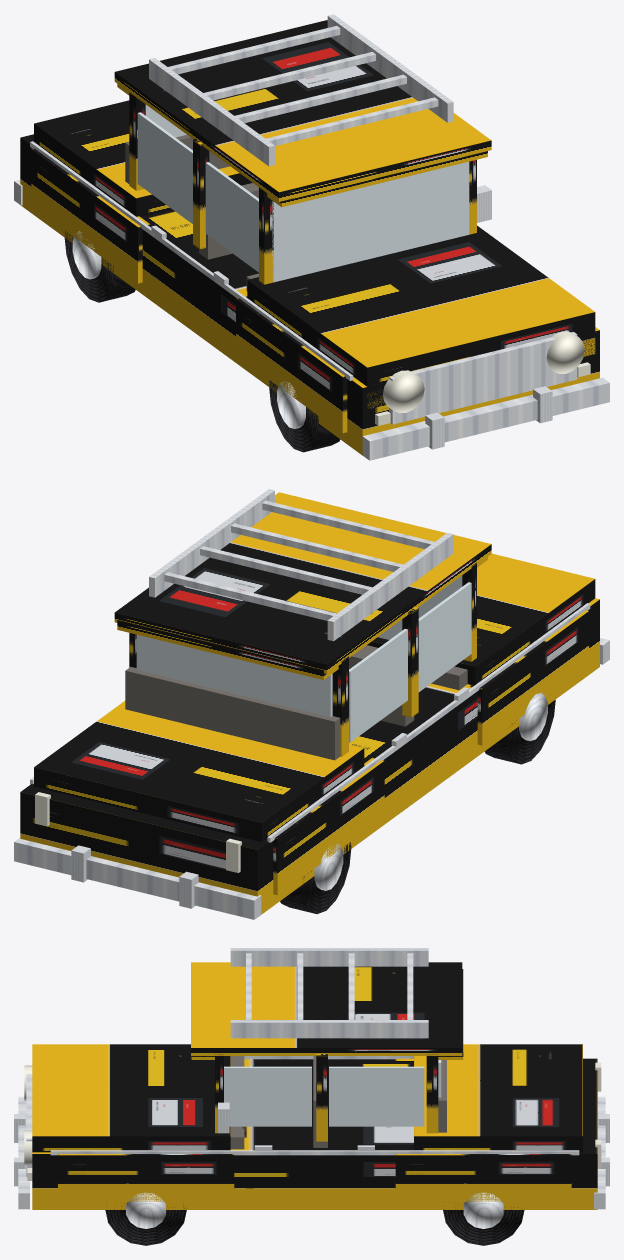
Rendered from mumbai_taxi_realistic.glb.
3 renders of one model, top to bottom at view 1: azimuth 30°, elevation 25°; view 2: azimuth 150°, elevation 25°; view 3: azimuth 270°, elevation 25°, orthographic. The views are drawn at different scales.
Parts seen in each view (by area): view 1: Taxi_Lower_Black_Body, Taxi_Yellow_Roof, Taxi_Chrome_Package, Taxi_Glass_Windows, Taxi_Wheels, Taxi_Lights, Taxi_Chrome_Hubcaps, Taxi_Interior; view 2: Taxi_Lower_Black_Body, Taxi_Yellow_Roof, Taxi_Chrome_Package, Taxi_Glass_Windows, Taxi_Interior, Taxi_Wheels, Taxi_Chrome_Hubcaps, Taxi_Lights; view 3: Taxi_Lower_Black_Body, Taxi_Yellow_Roof, Taxi_Chrome_Package, Taxi_Glass_Windows, Taxi_Wheels, Taxi_Chrome_Hubcaps, Taxi_Interior, Taxi_Lights.
Boxes of the visible parts, bbox=[...] form: Taxi_Lower_Black_Body: bbox=[20, 100, 599, 455]; Taxi_Yellow_Roof: bbox=[114, 20, 491, 284]; Taxi_Chrome_Package: bbox=[14, 14, 609, 460]; Taxi_Glass_Windows: bbox=[137, 104, 469, 282]; Taxi_Wheels: bbox=[64, 230, 340, 452]; Taxi_Lights: bbox=[375, 331, 590, 425]; Taxi_Chrome_Hubcaps: bbox=[72, 231, 305, 428]; Taxi_Interior: bbox=[125, 135, 258, 290]; Taxi_Lower_Black_Body: bbox=[20, 553, 599, 916]; Taxi_Yellow_Roof: bbox=[114, 492, 491, 756]; Taxi_Chrome_Package: bbox=[14, 489, 609, 919]; Taxi_Glass_Windows: bbox=[136, 575, 471, 742]; Taxi_Interior: bbox=[125, 645, 467, 760]; Taxi_Wheels: bbox=[280, 700, 555, 913]; Taxi_Chrome_Hubcaps: bbox=[314, 693, 547, 890]; Taxi_Lights: bbox=[35, 792, 241, 872]; Taxi_Lower_Black_Body: bbox=[32, 1044, 597, 1209]; Taxi_Yellow_Roof: bbox=[191, 962, 463, 1141]; Taxi_Chrome_Package: bbox=[14, 948, 609, 1209]; Taxi_Glass_Windows: bbox=[224, 1060, 441, 1126]; Taxi_Wheels: bbox=[105, 1203, 524, 1245]; Taxi_Chrome_Hubcaps: bbox=[126, 1192, 503, 1228]; Taxi_Interior: bbox=[230, 1056, 446, 1149]; Taxi_Lights: bbox=[24, 1062, 601, 1180].
Bounding box in the file's own units: 1.6 × 1.6 × 4.06.
Materials: 6 (3 with a texture image).
